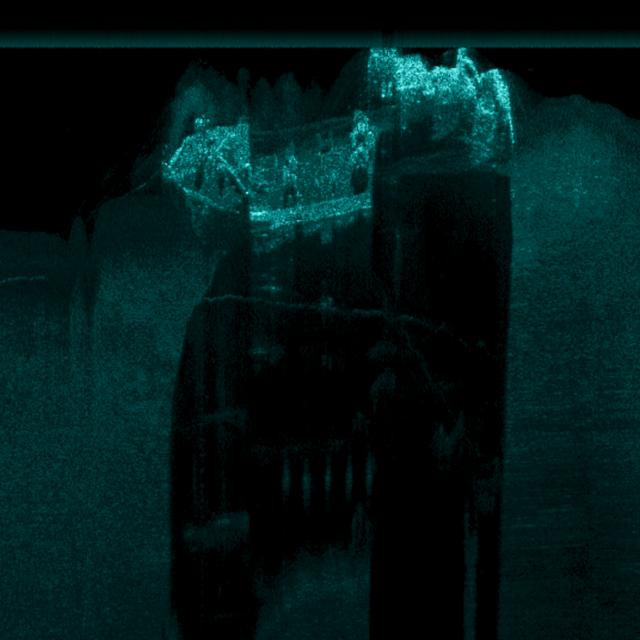ship: (154, 48, 524, 229)
